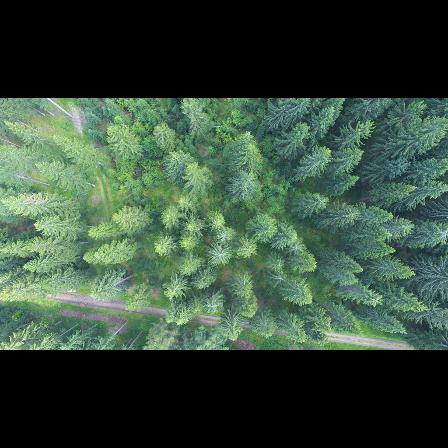Sick: (208, 248, 232, 262), (288, 241, 307, 255), (273, 272, 288, 286), (217, 228, 231, 242)
